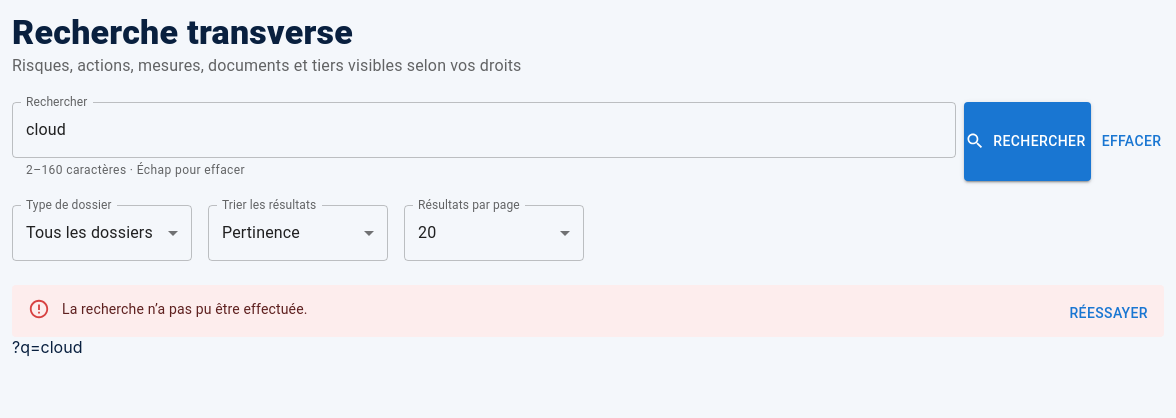
Test: GRC search › offers a retry after an error and an actionable empty state
Click the button "Réessayer" at (1109, 313), box 1061,295 -> 1156,331
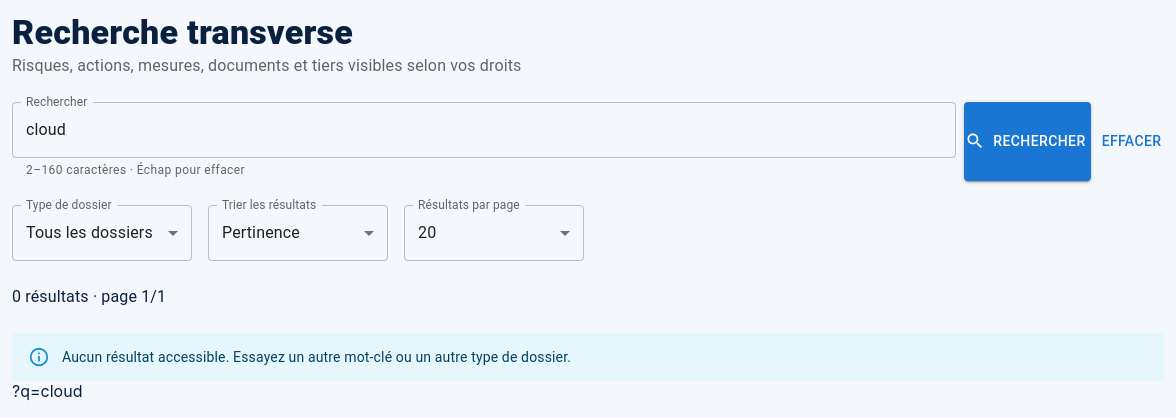
Result: the text "Essayez un autre mot-clé" is shown at 62,349 -> 571,365
